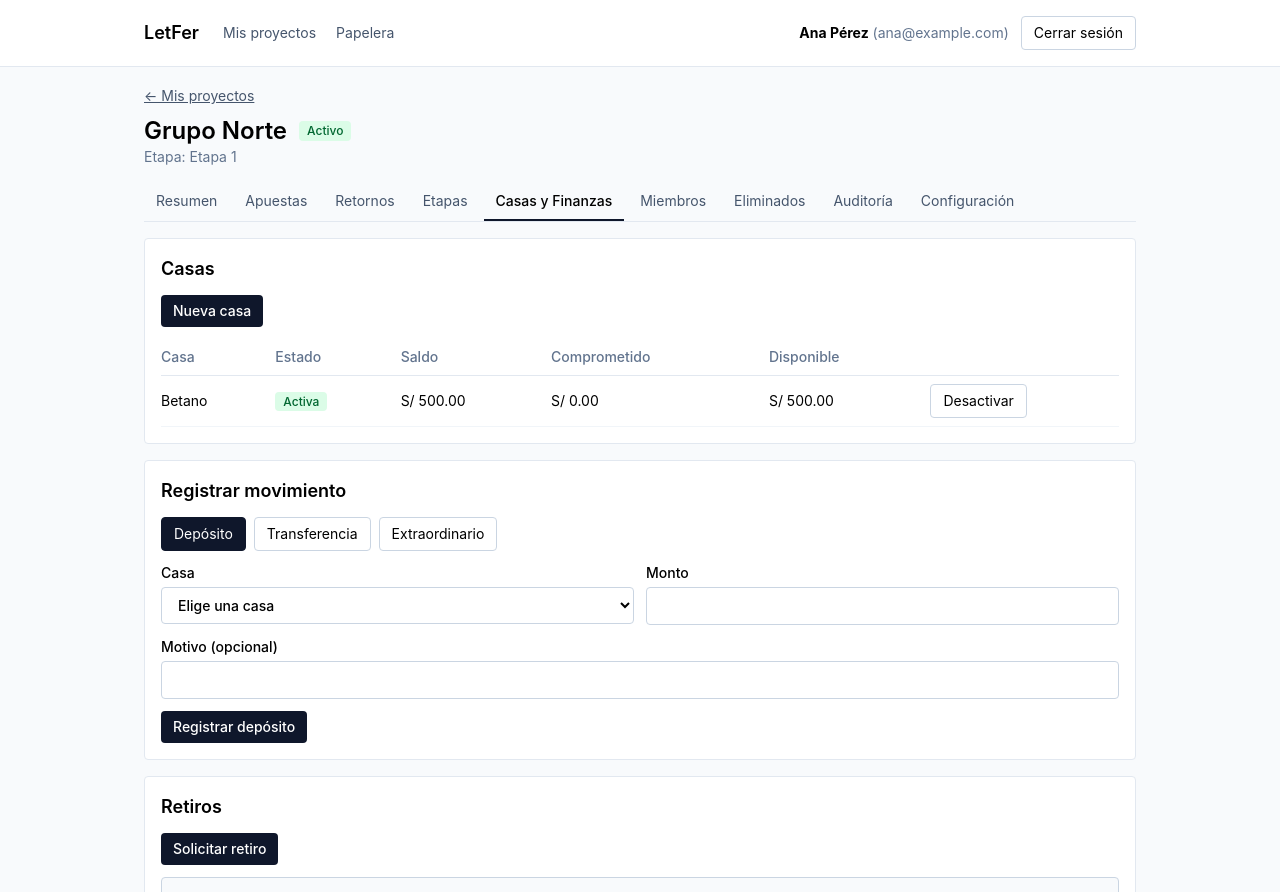
Test case: casas y finanzas del proyecto (§13-§17, §49) › registrar movimiento › registra un depósito
Select "Betano" in the dropdown labelled "Casa" at point(398, 606), box [161,587,634,624]
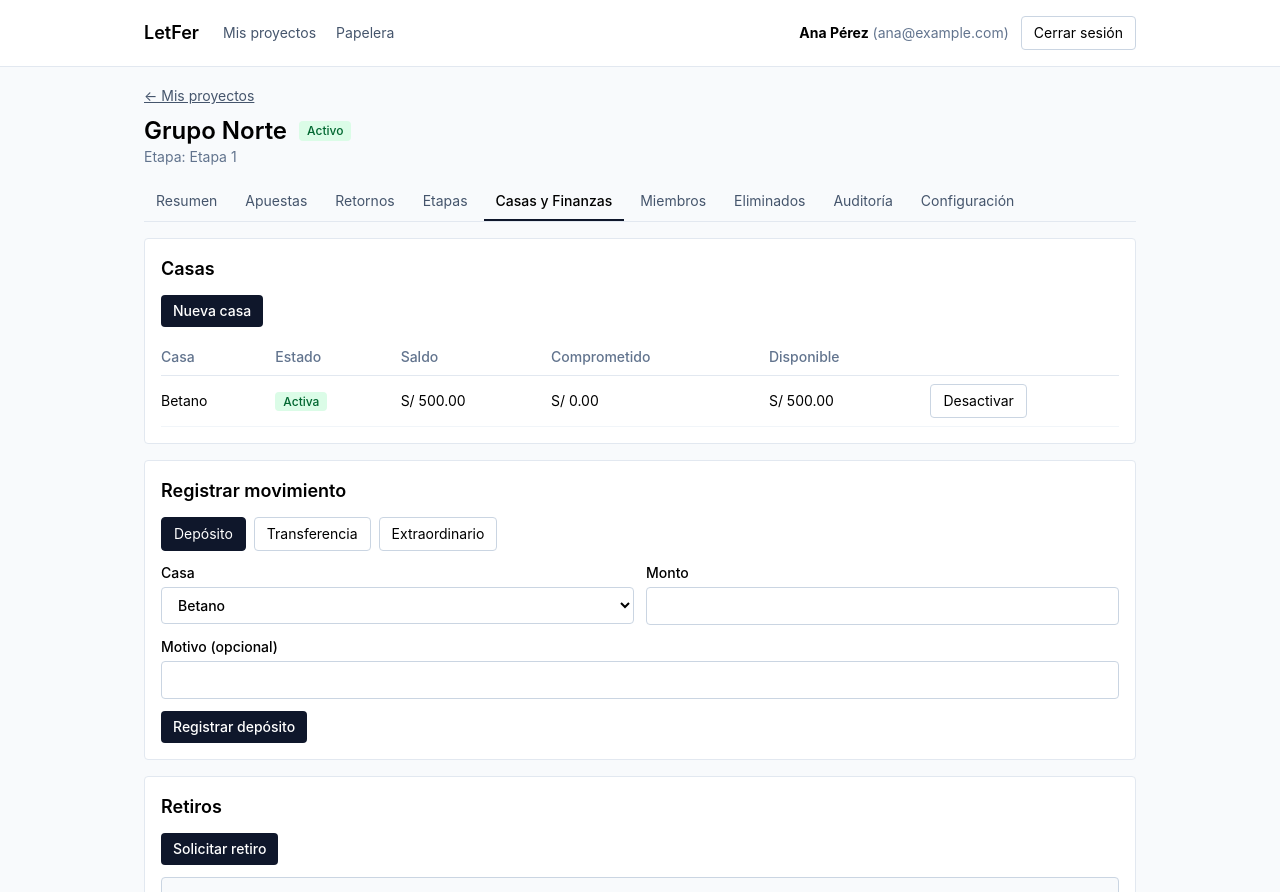
Type "50" into the field labelled "Monto" at point(882, 606), box [646,587,1119,625]
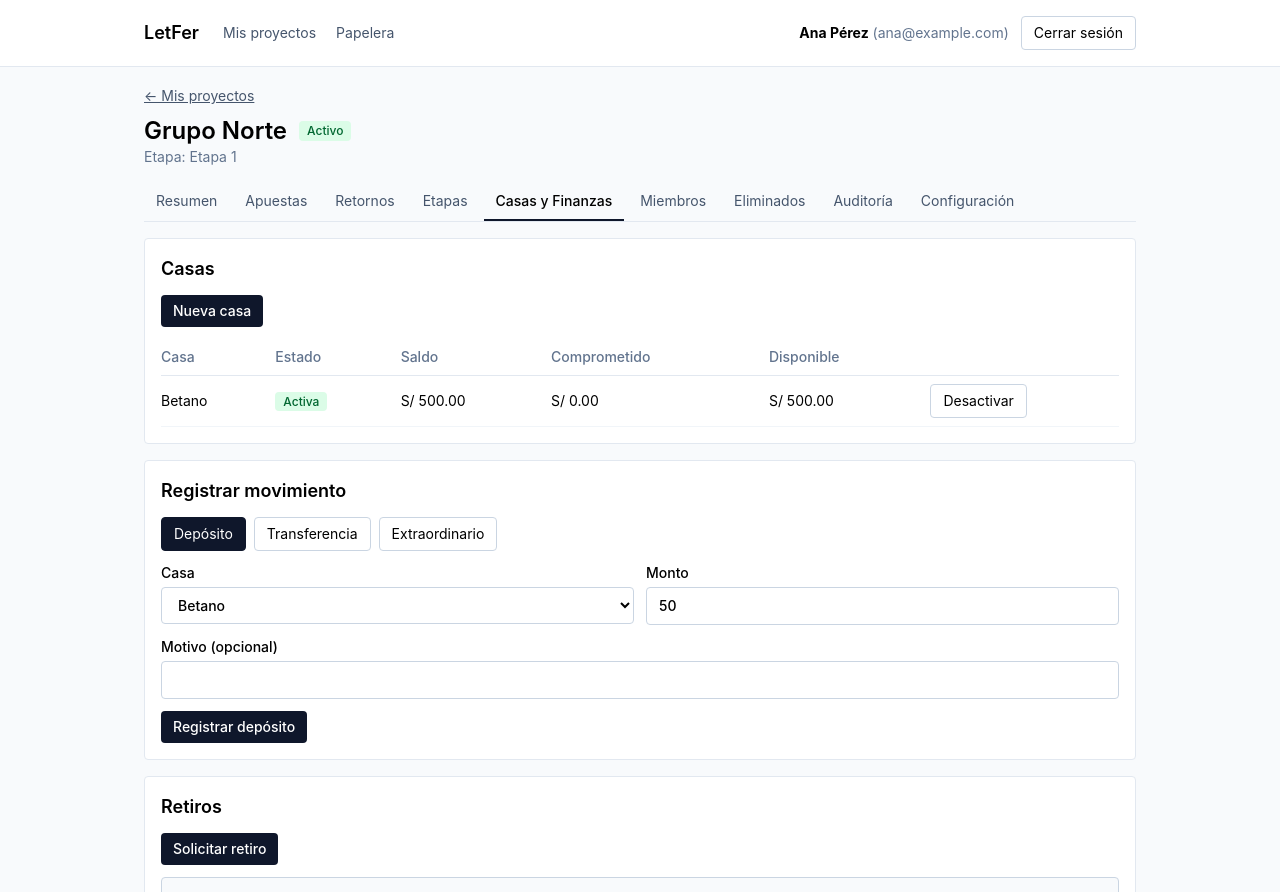
Type "Recarga" into the field labelled "Motivo (opcional)" at point(640, 680), box [161,661,1119,699]
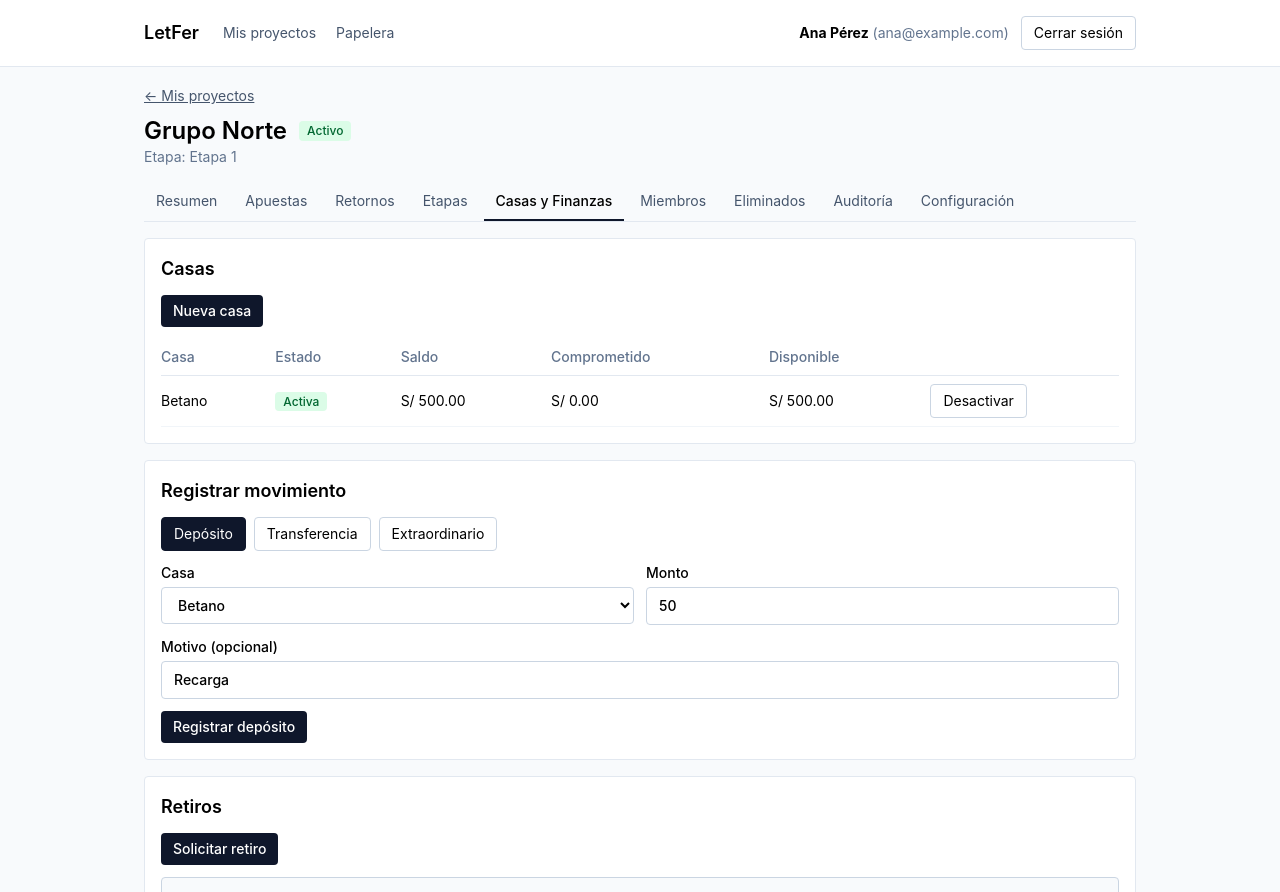
Click the button "Registrar depósito" at point(234, 727), box [161,711,307,743]
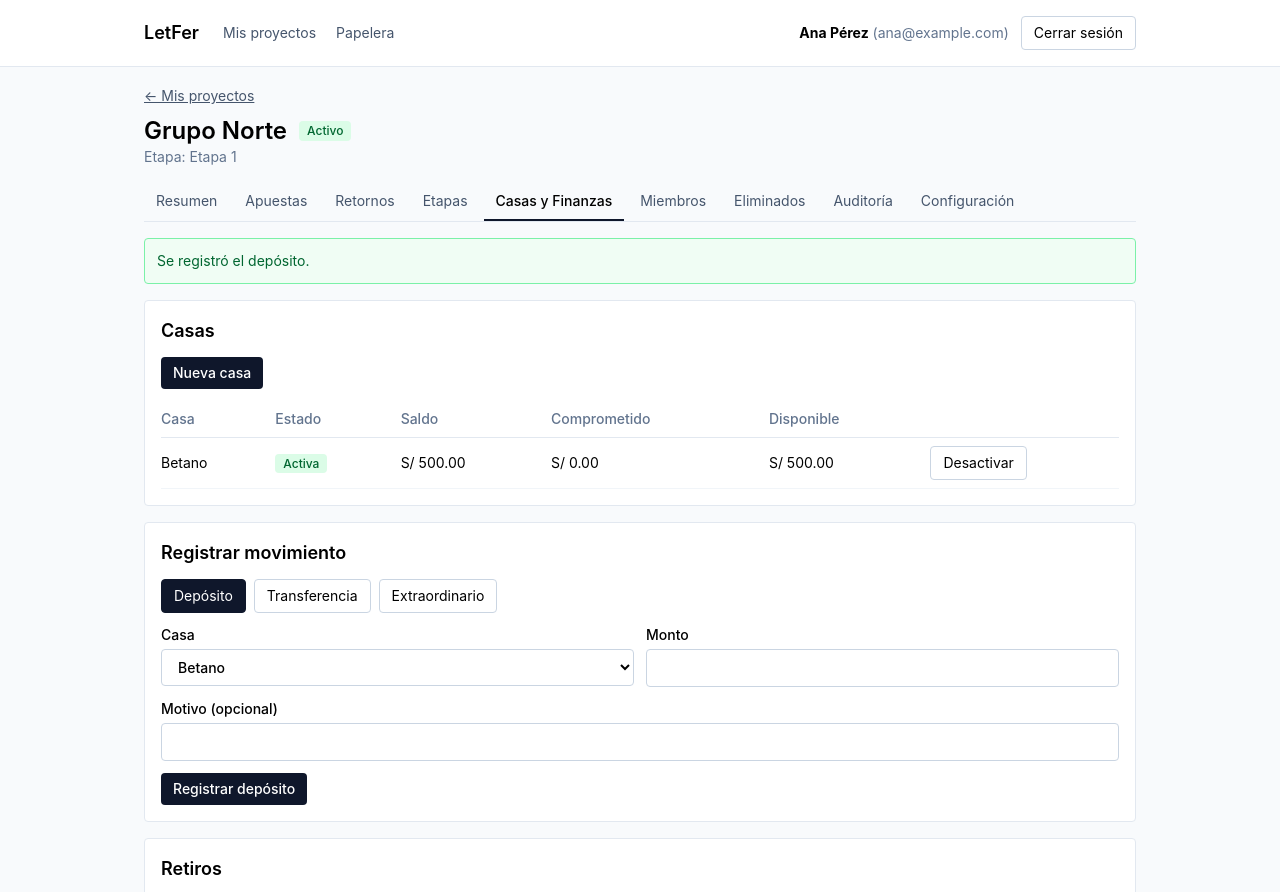
Expected: the text "Se registró el depósito." is shown, [144,238,1136,284]
